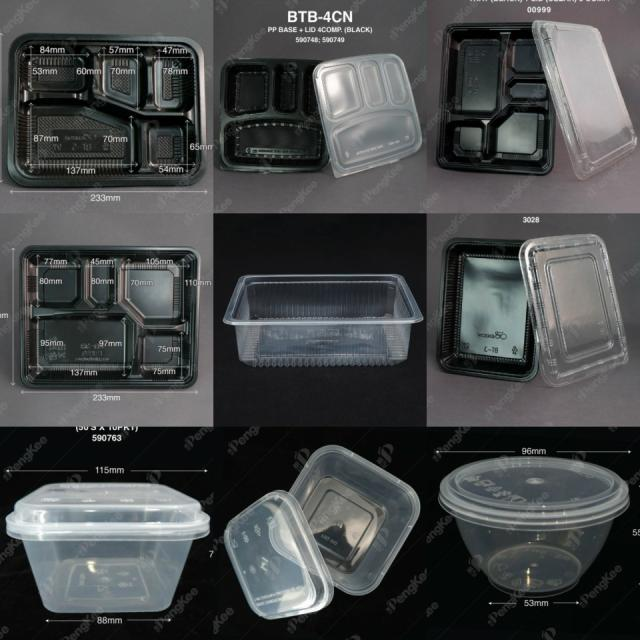Single-Use-Plastic: (8, 34, 204, 186), (439, 456, 629, 598), (6, 482, 210, 613), (20, 246, 200, 388), (266, 441, 421, 598), (224, 275, 422, 366), (436, 24, 554, 174), (532, 20, 638, 179), (519, 234, 629, 386), (438, 239, 538, 381), (224, 490, 334, 619), (314, 54, 422, 178), (220, 59, 329, 172)
